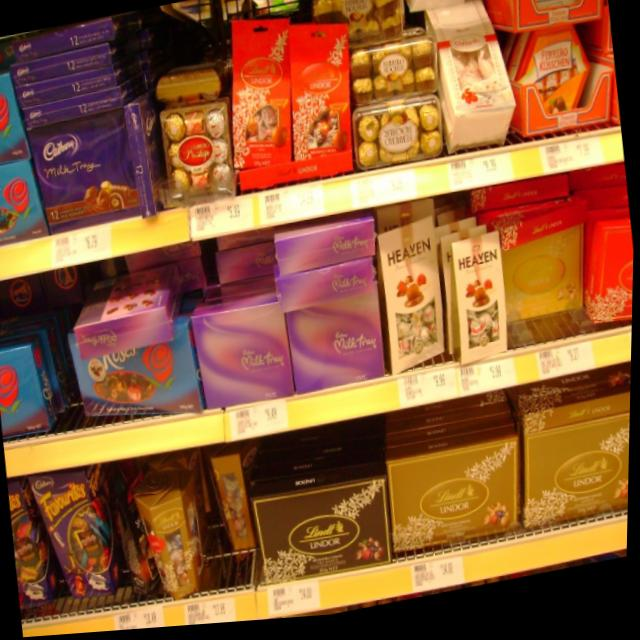q112: (384, 439, 528, 559), (514, 406, 632, 541)
q115: (248, 474, 399, 596)
